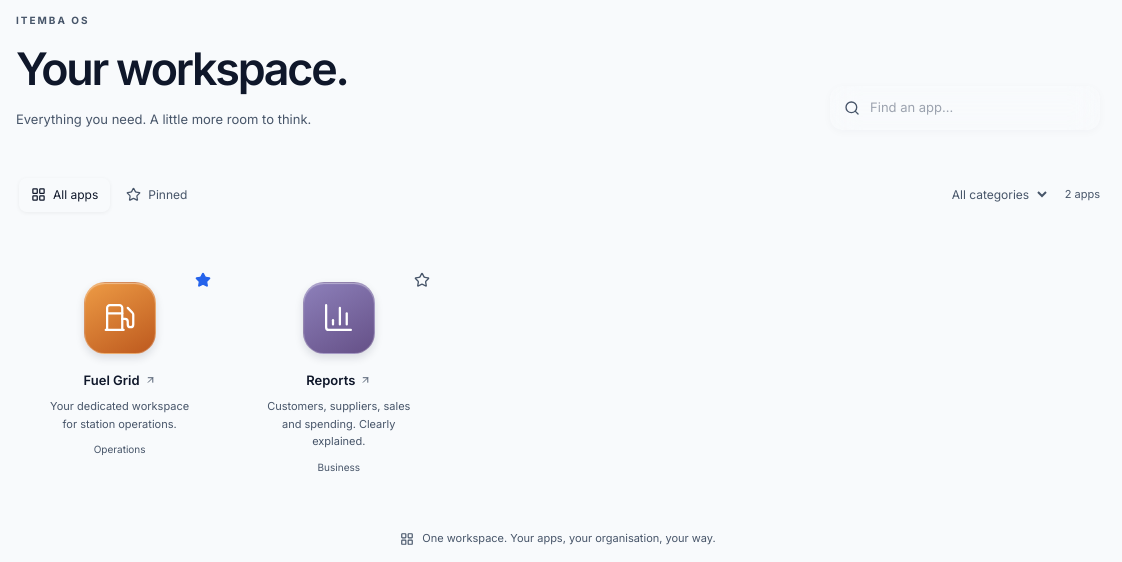
Scenario: Apps workspace › opens the launcher and searches by purpose
The image size is (1122, 562).
Type "petroleum" into the search field named "Search apps" at {"x": 978, "y": 108}, box left=870, top=98, right=1086, bottom=118
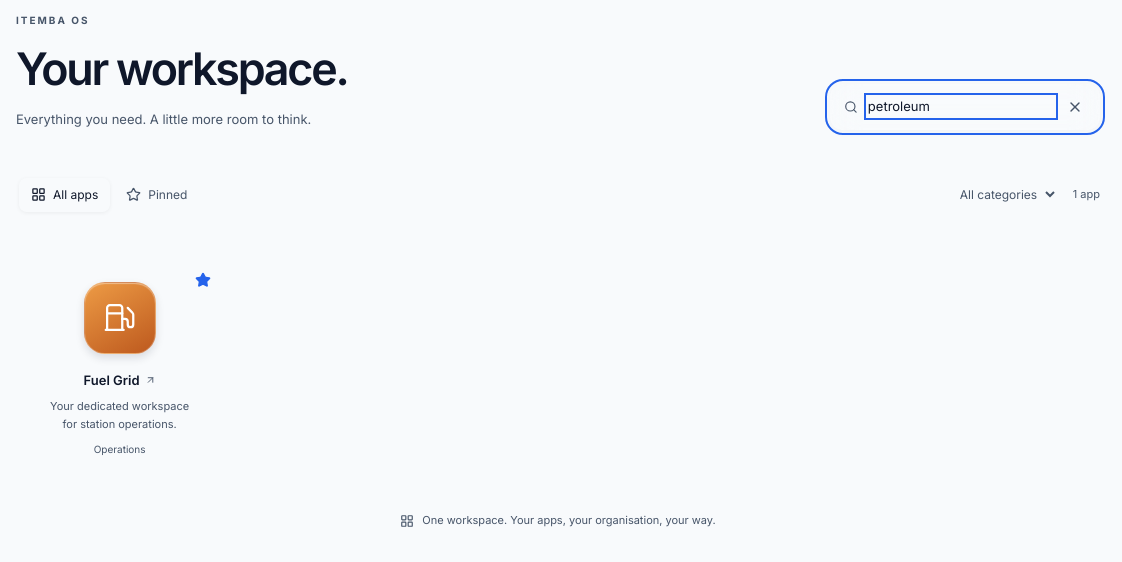
Expected: the link with aria-label "Open Fuel Grid" is shown, left=50, top=282, right=189, bottom=455
Clear the search field at {"x": 961, "y": 107}, box left=868, top=97, right=1054, bottom=116
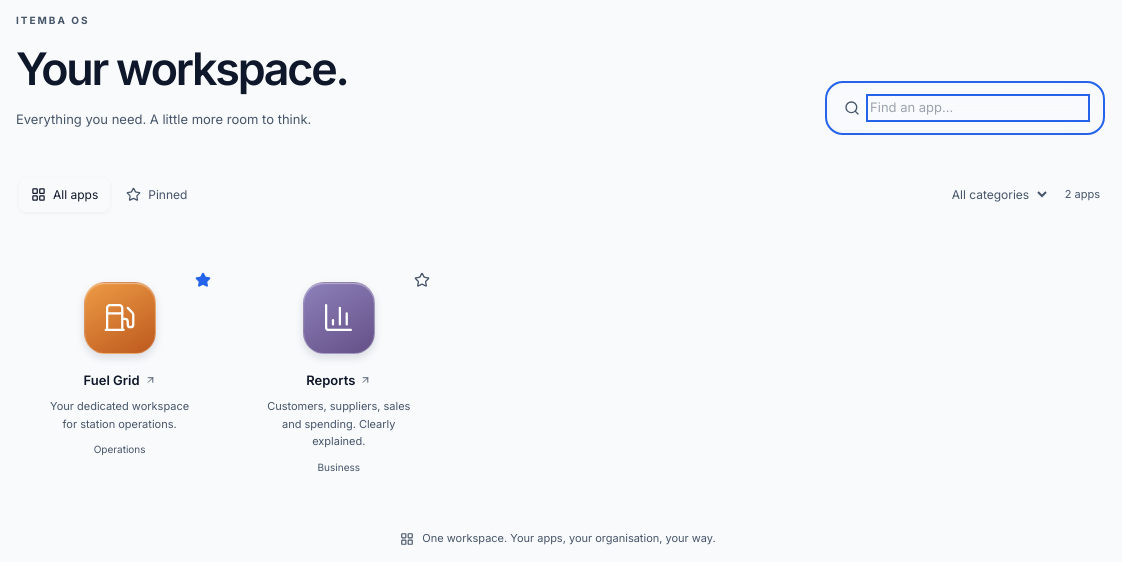
Type "notes" into the search field at {"x": 978, "y": 108}, box left=870, top=98, right=1086, bottom=118
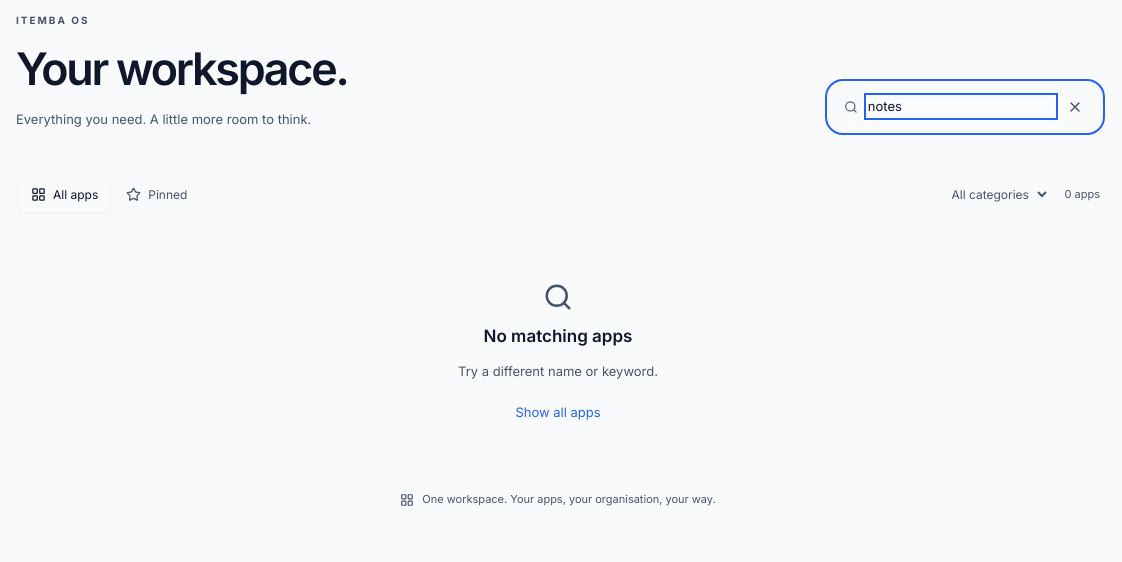
Expected: the heading "No matching apps" is shown, left=484, top=324, right=632, bottom=349
Click the button named "Clear search" at {"x": 1075, "y": 106}, box left=1064, top=96, right=1086, bottom=118
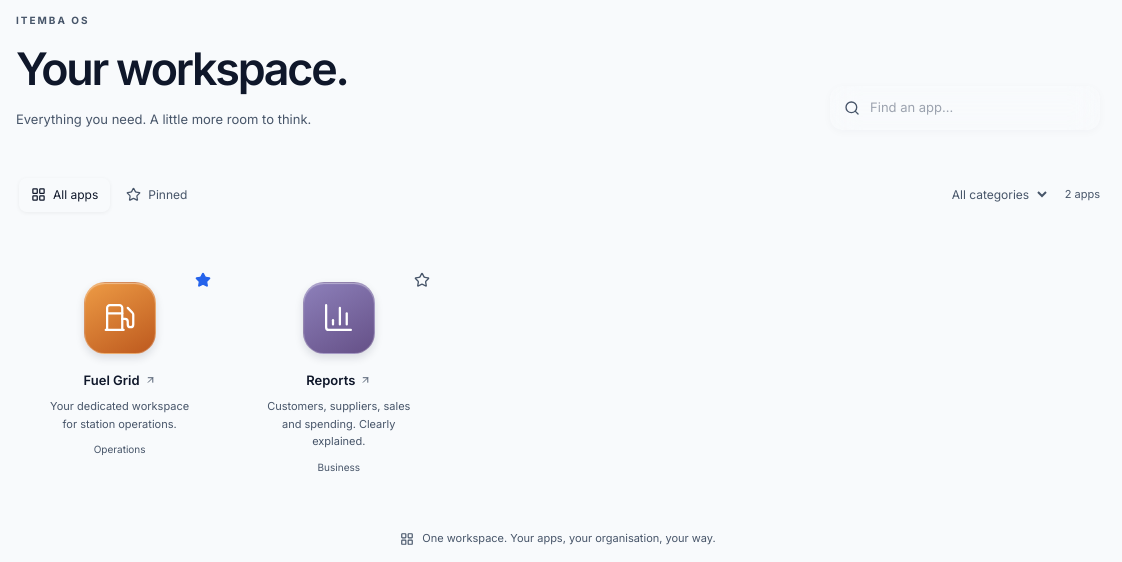
Expected: the link with aria-label "Open Fuel Grid" is shown, left=50, top=282, right=189, bottom=455
